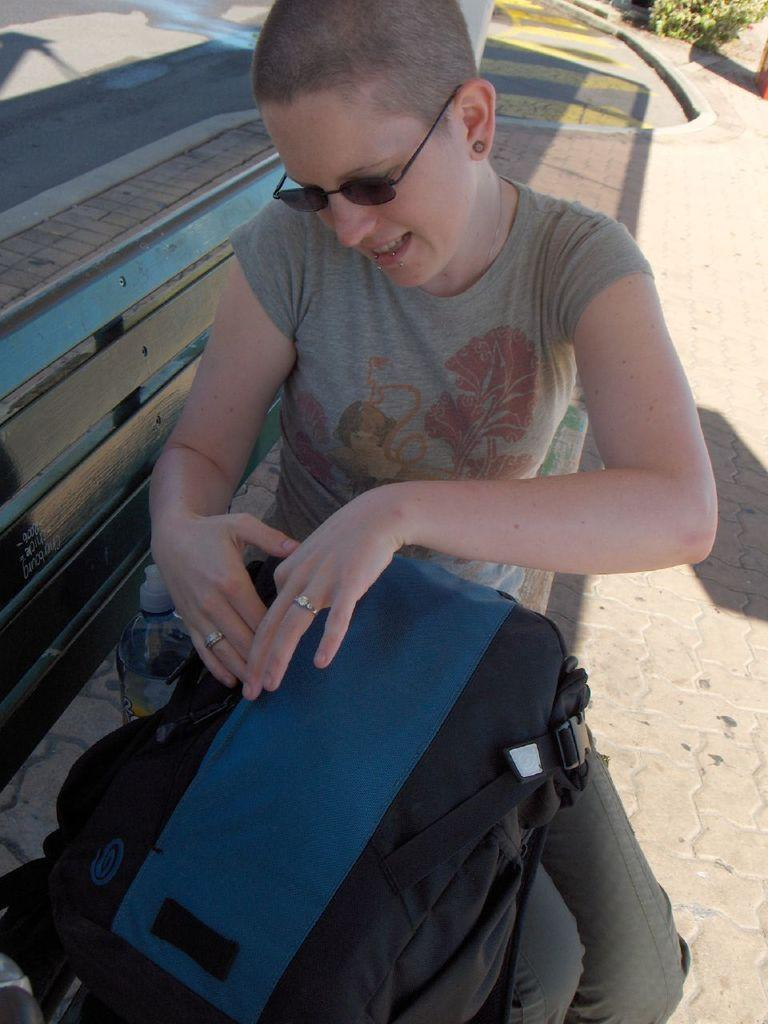Luggage-and-bags: (32, 587, 700, 1024)
